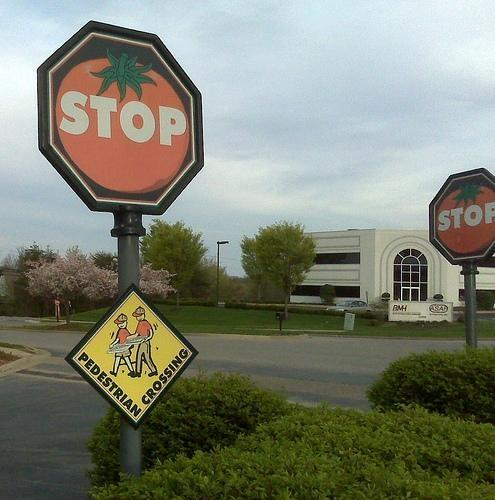car: (326, 300, 373, 312)
